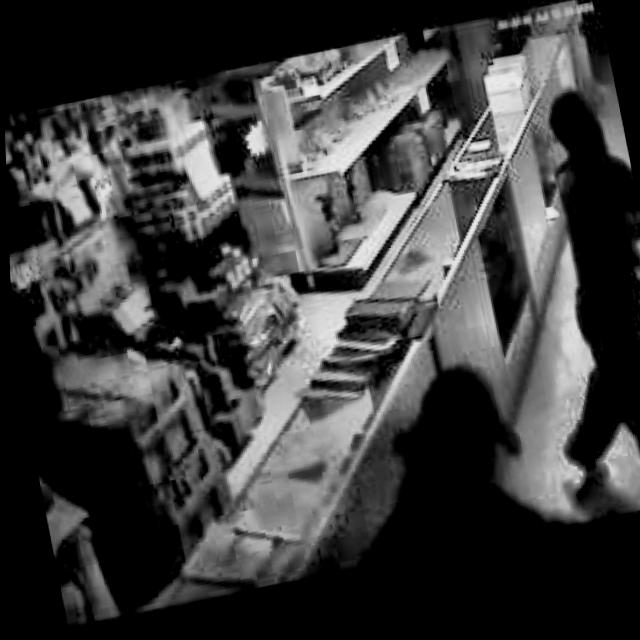burglary: (492, 78, 640, 530)
